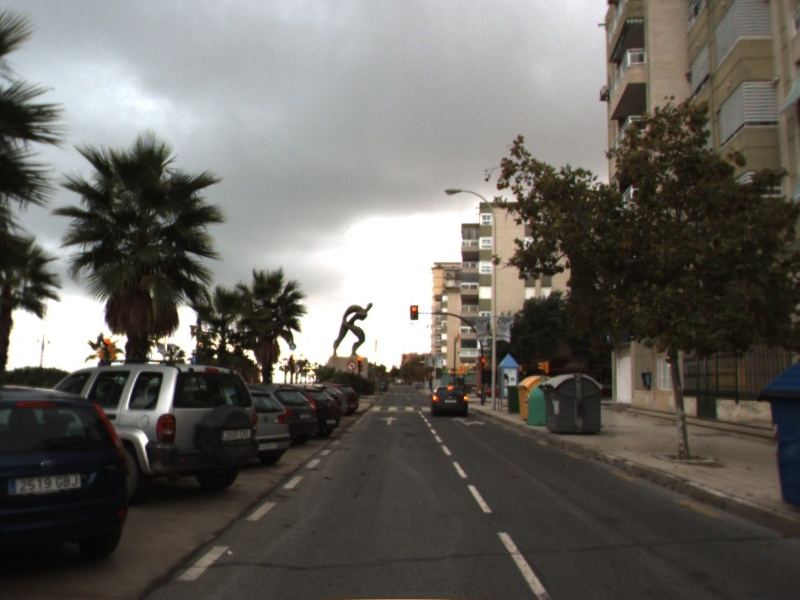STRAIGHT: (380, 415, 400, 427)
STRAIGHT_RIGHT: (450, 415, 487, 428)
